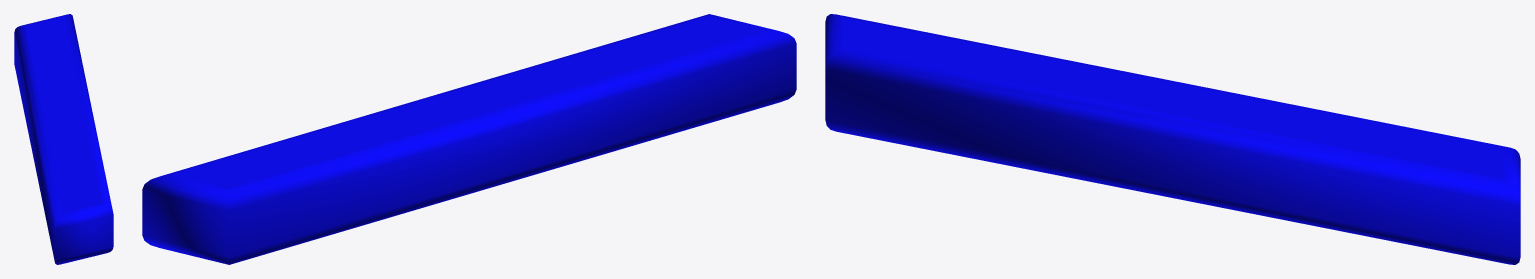
3 views of the same model, side by side, from view 1: azimuth 30°, elevation 25°; view 2: azimuth 150°, elevation 25°; view 3: azimuth 270°, elevation 25° (orthographic). The views are drawn at different scales.
Parts seen in each view (by area): view 1: 47; view 2: 47; view 3: 47.
Part boxes in pixels (x1=…): 47: x1=14, y1=14, x2=113, y2=264; 47: x1=142, y1=14, x2=796, y2=264; 47: x1=825, y1=14, x2=1520, y2=264.
Size of the model in its own units: 0.7744 by 0.16 by 1.23.
